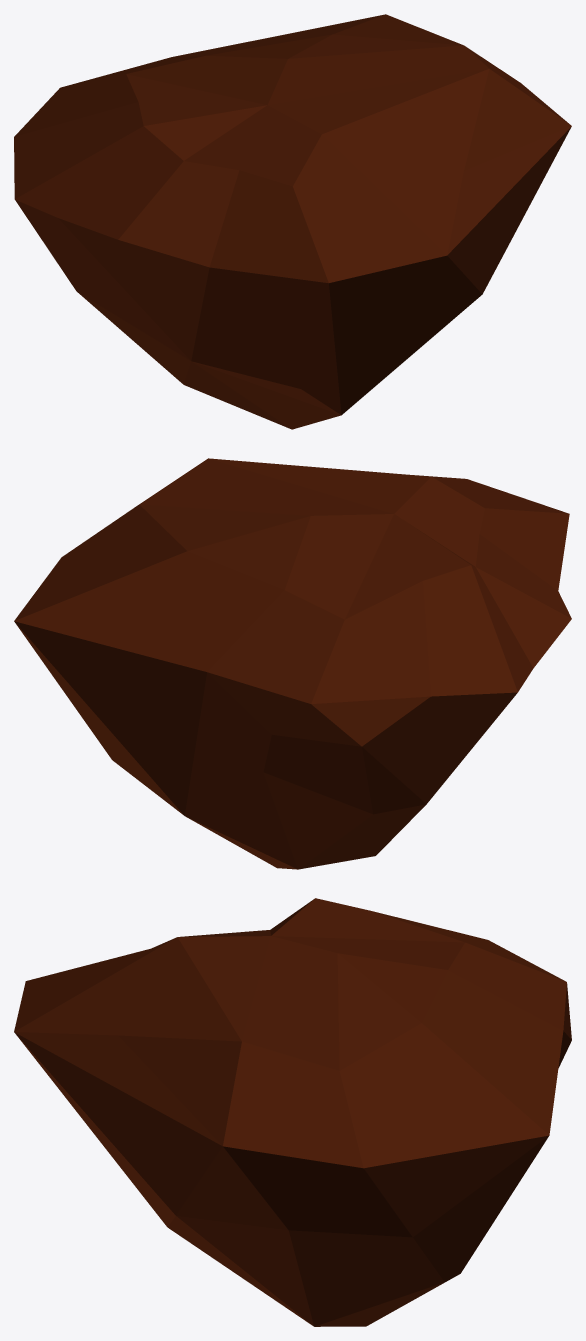
The model's file is GroundChunk_1.fbx.
3 renders of one model, top to bottom at view 1: azimuth 30°, elevation 25°; view 2: azimuth 150°, elevation 25°; view 3: azimuth 270°, elevation 25°, orthographic. The views are drawn at different scales.
Visible parts, largest first — view 1: GroundChunk_1; view 2: GroundChunk_1; view 3: GroundChunk_1.
Part boxes in pixels (bbox=[...]): GroundChunk_1: bbox=[14, 14, 571, 429]; GroundChunk_1: bbox=[14, 458, 571, 869]; GroundChunk_1: bbox=[14, 898, 571, 1326].
Bounding box in the file's own units: 829 × 589 × 811.
